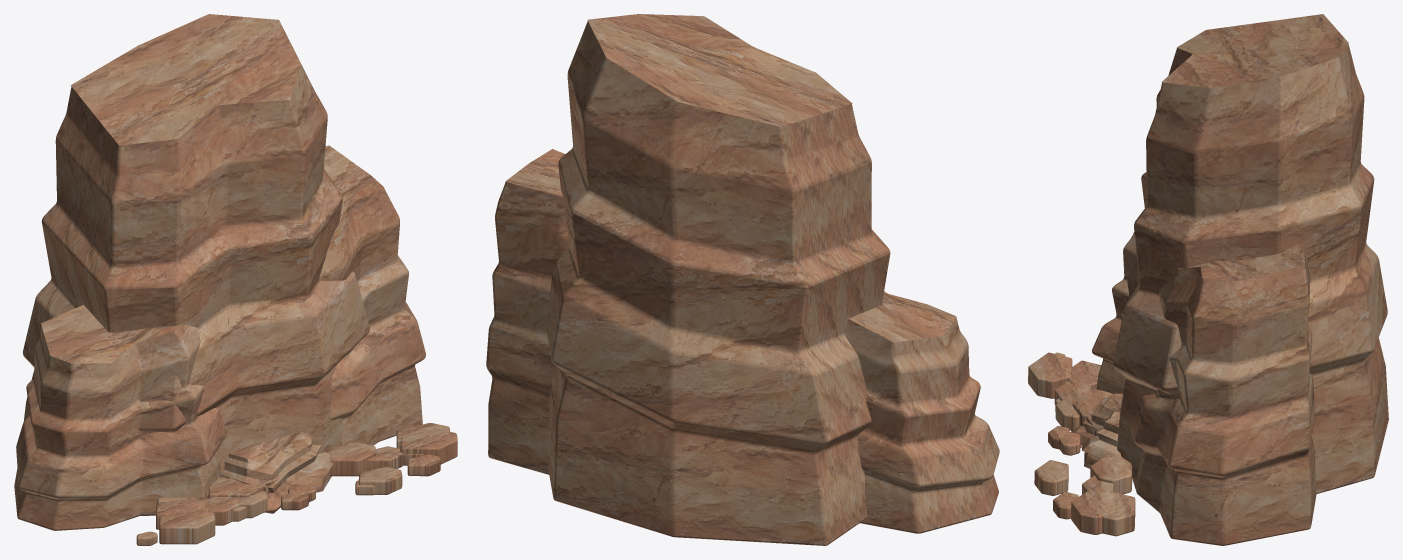
The model's file is cliff_01.glb.
3 views of the same model, side by side, from view 1: azimuth 30°, elevation 25°; view 2: azimuth 150°, elevation 25°; view 3: azimuth 270°, elevation 25° (orthographic). The views are drawn at different scales.
Parts seen in each view (by area): view 1: Canyon buttress 01; view 2: Canyon buttress 01; view 3: Canyon buttress 01.
Boxes of the visible parts, bbox=[...] form: Canyon buttress 01: bbox=[14, 14, 457, 545]; Canyon buttress 01: bbox=[486, 14, 999, 545]; Canyon buttress 01: bbox=[1028, 14, 1388, 545].
Size of the model in its own units: 11.08 by 10.11 by 7.85.
1 material, 1 textured.
